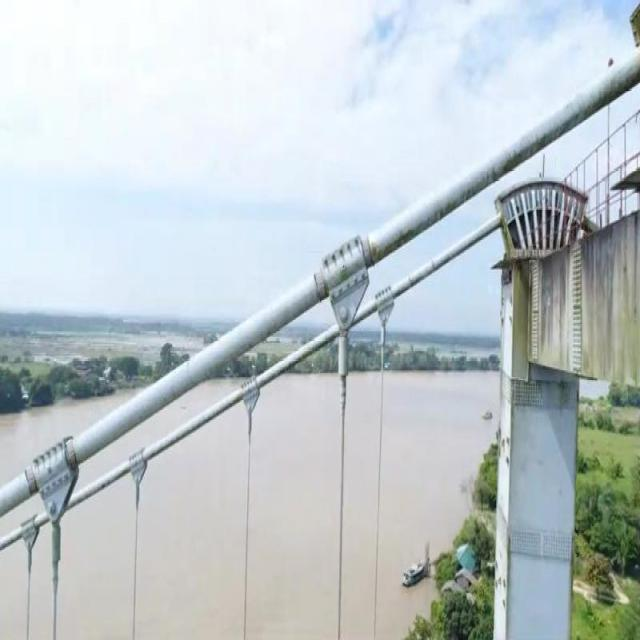Slippage: (314, 267, 328, 301), (361, 233, 373, 268), (66, 436, 78, 468), (25, 468, 38, 494)
